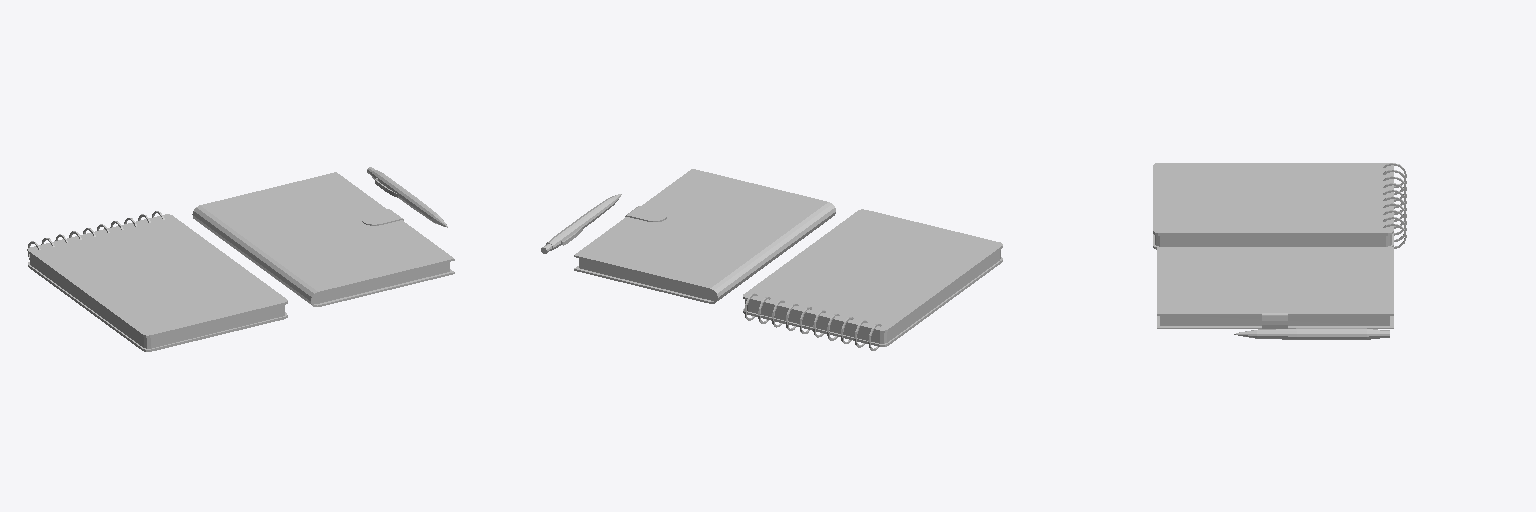
Rendered from Models.obj.
3 renders of one model, left to right at view 1: azimuth 30°, elevation 25°; view 2: azimuth 150°, elevation 25°; view 3: azimuth 270°, elevation 25°, orthographic.
Parts seen in each view (by area): view 1: C_low.001_Circle.008, D_low.001_Plane.005, Pen_low.001_Circle.002; view 2: C_low.001_Circle.008, D_low.001_Plane.005, Pen_low.001_Circle.002; view 3: C_low.001_Circle.008, D_low.001_Plane.005, Pen_low.001_Circle.002.
Boxes of the visible parts, x1,y1,x2,y2 form: C_low.001_Circle.008: [27, 211, 287, 351]; D_low.001_Plane.005: [192, 172, 454, 306]; Pen_low.001_Circle.002: [367, 167, 447, 227]; C_low.001_Circle.008: [743, 209, 1002, 350]; D_low.001_Plane.005: [574, 169, 835, 303]; Pen_low.001_Circle.002: [541, 194, 621, 253]; C_low.001_Circle.008: [1153, 163, 1406, 249]; D_low.001_Plane.005: [1157, 247, 1393, 328]; Pen_low.001_Circle.002: [1234, 328, 1389, 339].
Size of the model in its own units: 1.07 by 0.0745 by 0.6737.